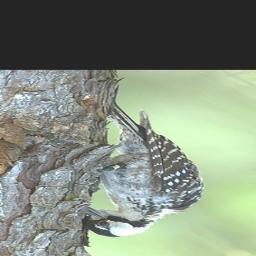Woodpecker: (83, 103, 208, 237)
